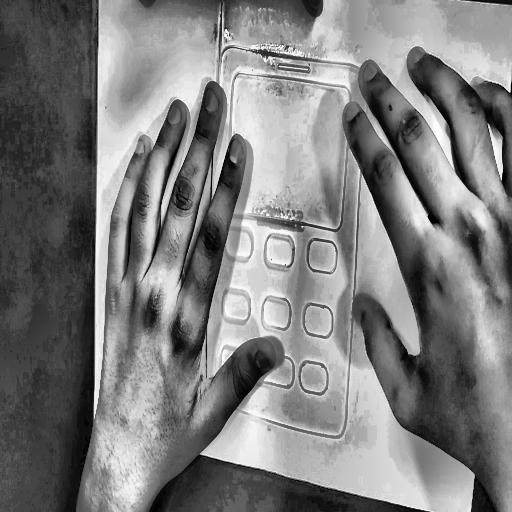bottom_left: (91, 413, 100, 429)
mobile: (198, 0, 378, 451)
